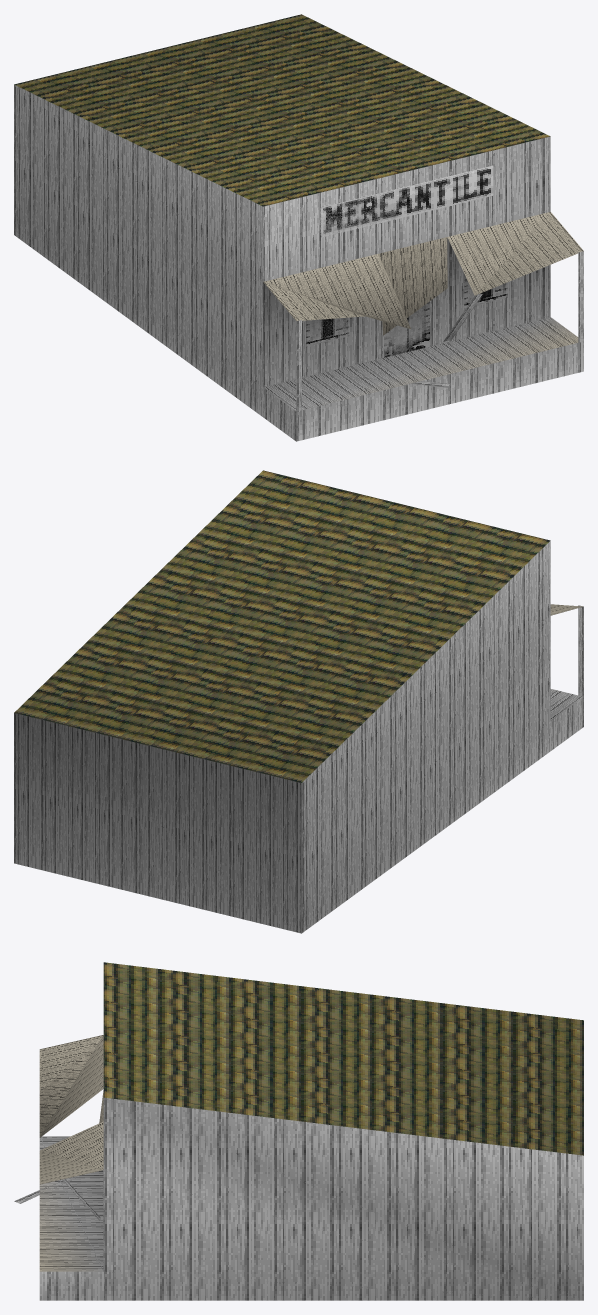
The model's file is uvmd-0171.glb.
3 views of the same model, one above another, from view 1: azimuth 30°, elevation 25°; view 2: azimuth 150°, elevation 25°; view 3: azimuth 270°, elevation 25° (orthographic). The views are drawn at different scales.
Parts seen in each view (by area): view 1: uvmd-0171; view 2: uvmd-0171; view 3: uvmd-0171.
Part boxes in pixels (bbox=[...]): uvmd-0171: bbox=[14, 14, 583, 441]; uvmd-0171: bbox=[14, 470, 583, 933]; uvmd-0171: bbox=[14, 962, 583, 1300].
Bounding box in the file's own units: 100 × 70 × 178.
Materials: 4 (4 with a texture image).
